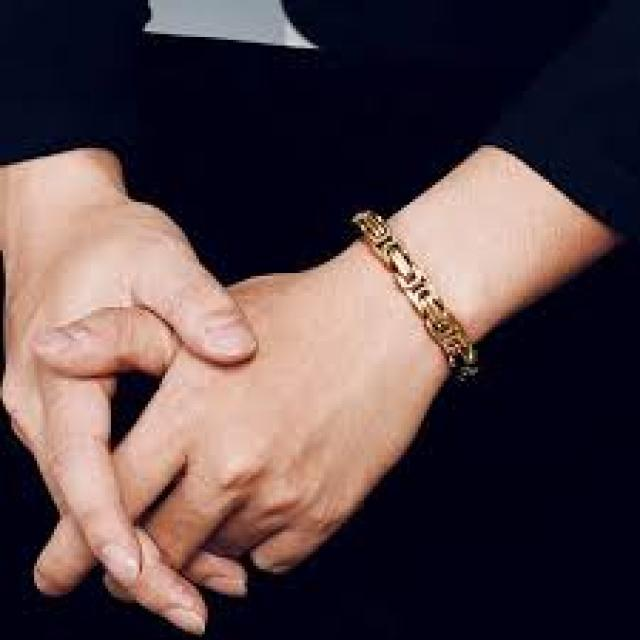Nail: (96, 540, 140, 590), (205, 316, 258, 356), (153, 605, 205, 636), (35, 569, 69, 598), (37, 329, 75, 354), (202, 574, 245, 595)
